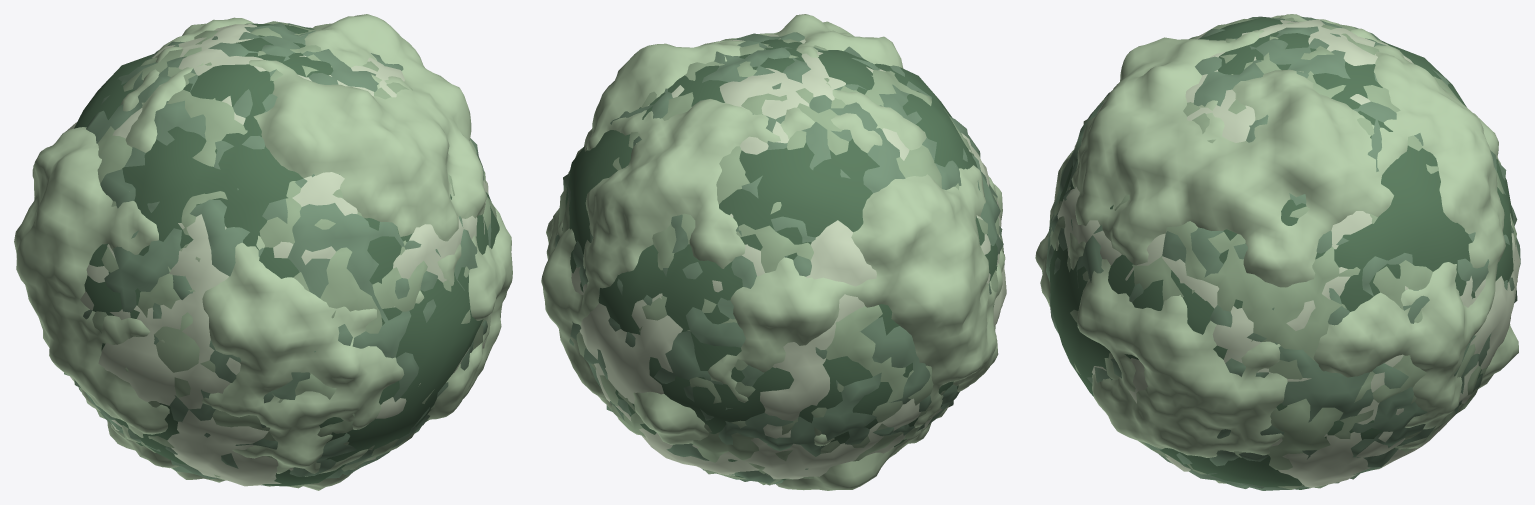
Rendered from macrophage_immune_cells.glb.
3 views of the same model, side by side, from view 1: azimuth 30°, elevation 25°; view 2: azimuth 150°, elevation 25°; view 3: azimuth 270°, elevation 25° (orthographic). The views are drawn at different scales.
Visible parts, largest first — view 1: macrophage, nucleus, cell_c, cell_b, cell_a; view 2: macrophage, nucleus, cell_c, cell_b, cell_a; view 3: macrophage, nucleus, cell_c, cell_a, cell_b.
Part boxes in pixels (<box>): macrophage: <box>14,14,512,490</box>; nucleus: <box>74,23,499,486</box>; cell_c: <box>64,22,491,478</box>; cell_b: <box>65,24,491,486</box>; cell_a: <box>74,21,496,488</box>; macrophage: <box>541,14,1005,490</box>; nucleus: <box>565,39,999,480</box>; cell_c: <box>555,32,1003,484</box>; cell_b: <box>562,34,1006,479</box>; cell_a: <box>558,39,1004,485</box>; macrophage: <box>1035,14,1518,483</box>; nucleus: <box>1049,17,1513,489</box>; cell_c: <box>1046,16,1520,490</box>; cell_a: <box>1050,17,1516,489</box>; cell_b: <box>1057,19,1520,487</box>.
Size of the model in its own units: 2.14 by 2.05 by 2.09.
